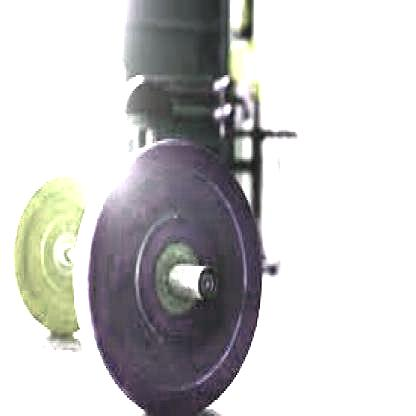Barbell: (193, 252, 222, 309)
